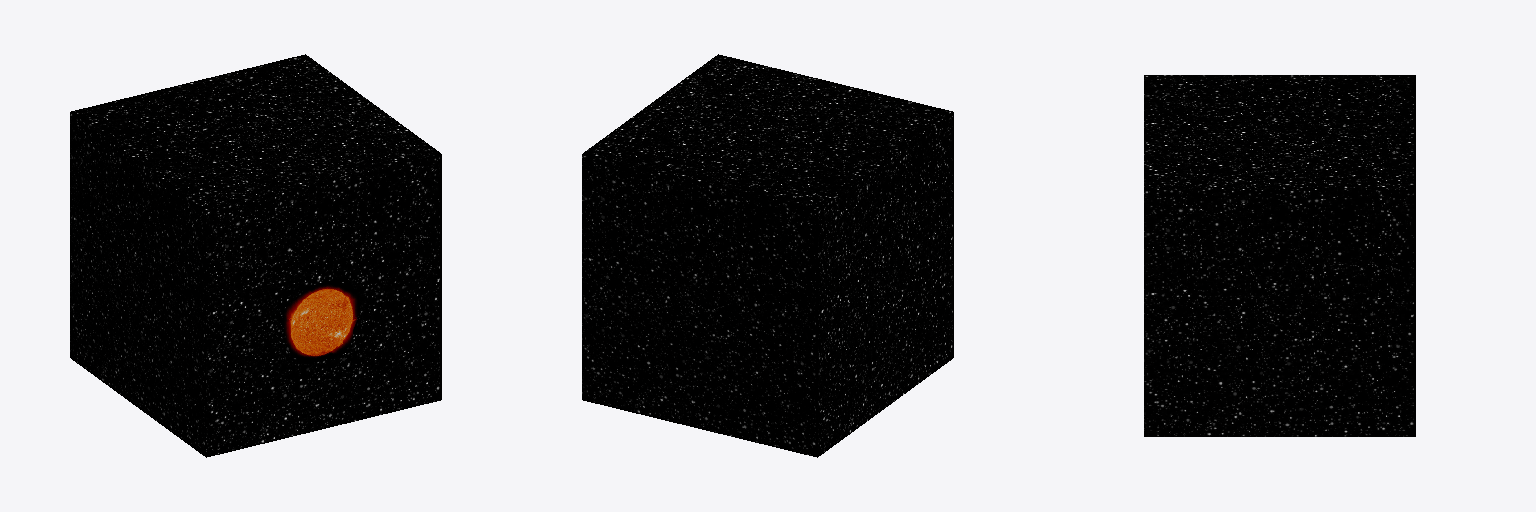
The picture shows the model from 3 angles: view 1: azimuth 30°, elevation 25°; view 2: azimuth 150°, elevation 25°; view 3: azimuth 270°, elevation 25°; orthographic projection.
Parts seen in each view (by area): view 1: SketchUp_ID2.002, SketchUp.001_ID15; view 2: SketchUp_ID2.002; view 3: SketchUp_ID2.002.
Part boxes in pixels (bbox=[...]): SketchUp_ID2.002: bbox=[70, 54, 440, 456]; SketchUp.001_ID15: bbox=[206, 154, 441, 457]; SketchUp_ID2.002: bbox=[582, 54, 953, 457]; SketchUp_ID2.002: bbox=[1144, 75, 1415, 436].
Bounding box in the file's own units: 840 × 840 × 840.
2 materials, 2 textured.